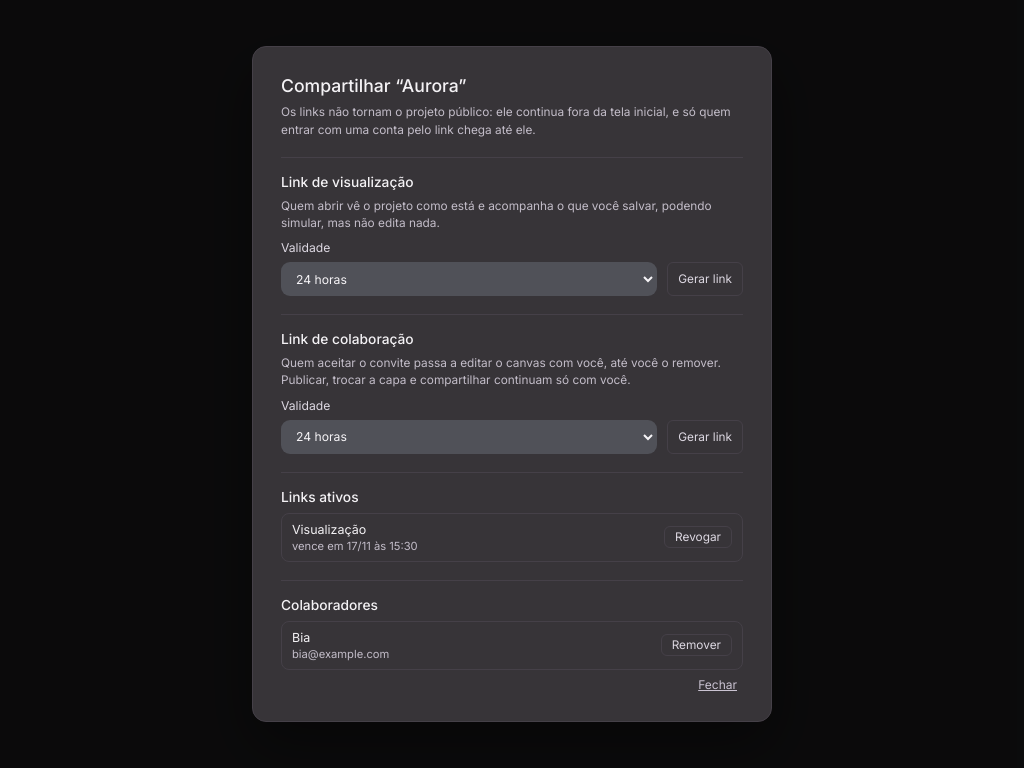
diálogo de compartilhar › revoga um link e remove um colaborador
The image size is (1024, 768).
Click the button with aria-label "Revogar link de visualização" at (698, 537), box [664, 526, 732, 548]
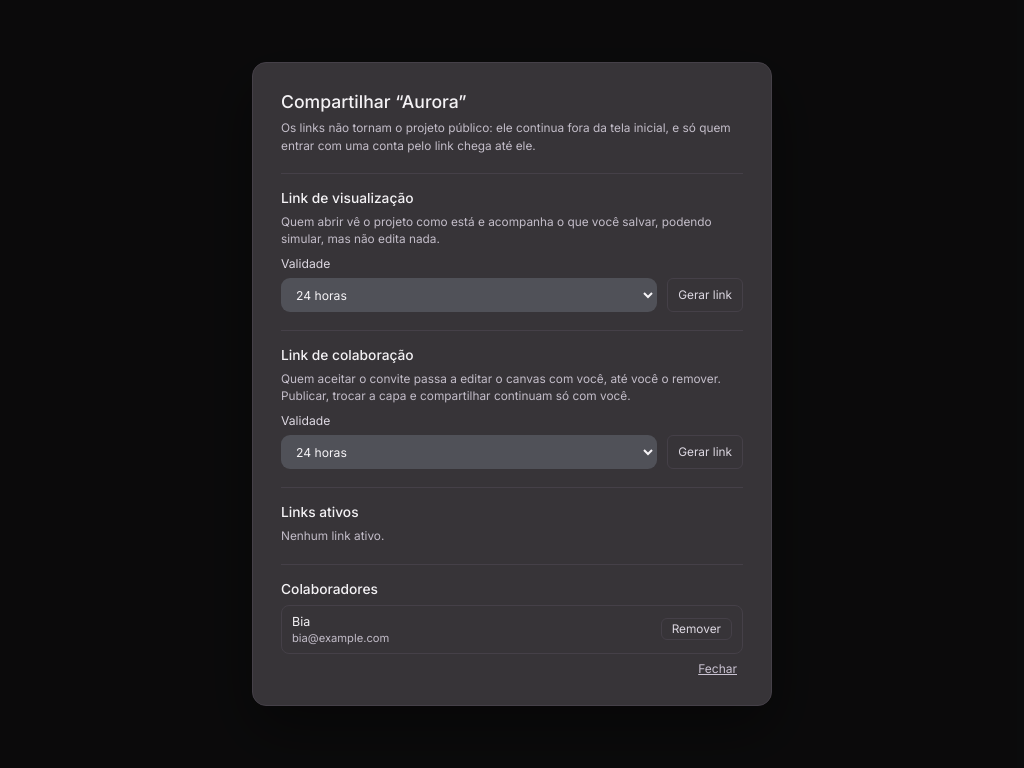
expect the text "Nenhum link ativo." is shown: met, box [281, 529, 384, 543]
Click the button with aria-label "Remover Bia do projeto" at (696, 629), box [661, 618, 732, 640]
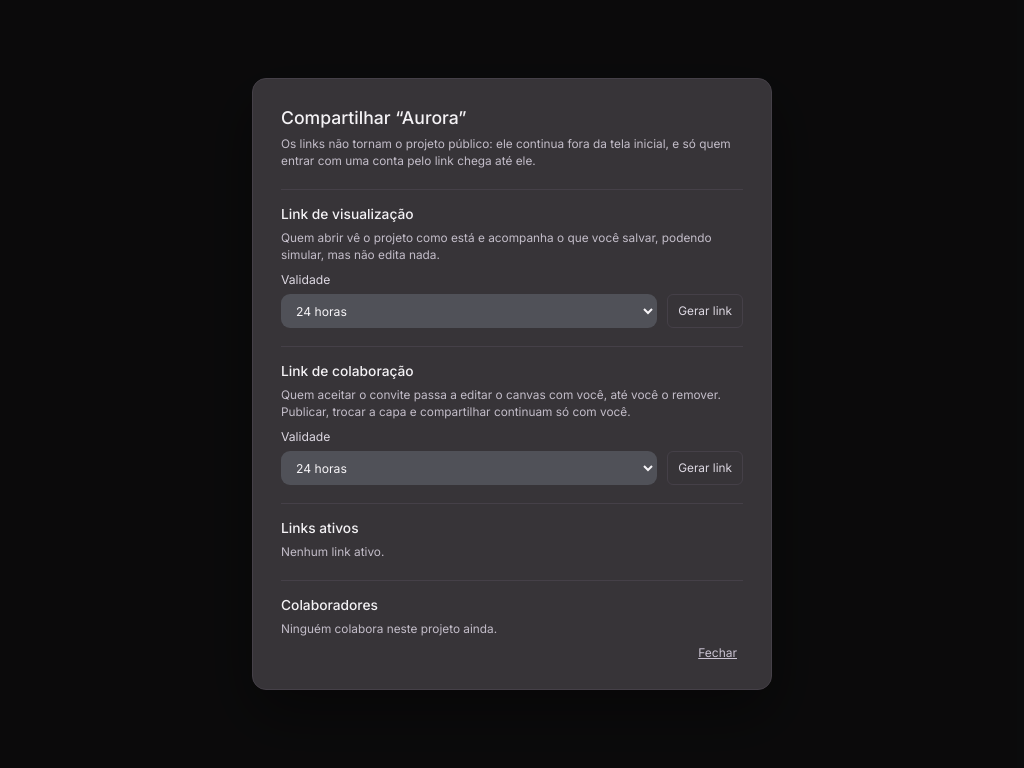
expect the text "Ninguém colabora neste projeto ainda." is shown: met, box [281, 622, 497, 636]
